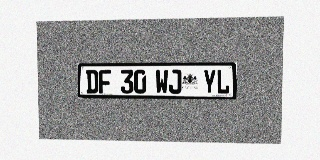0: (134, 70, 146, 94)
3: (121, 70, 133, 94)
D: (86, 70, 98, 93)
F: (98, 70, 111, 93)
J: (169, 69, 181, 94)
L: (216, 69, 230, 94)
W: (155, 69, 168, 94)
Y: (203, 69, 216, 94)
